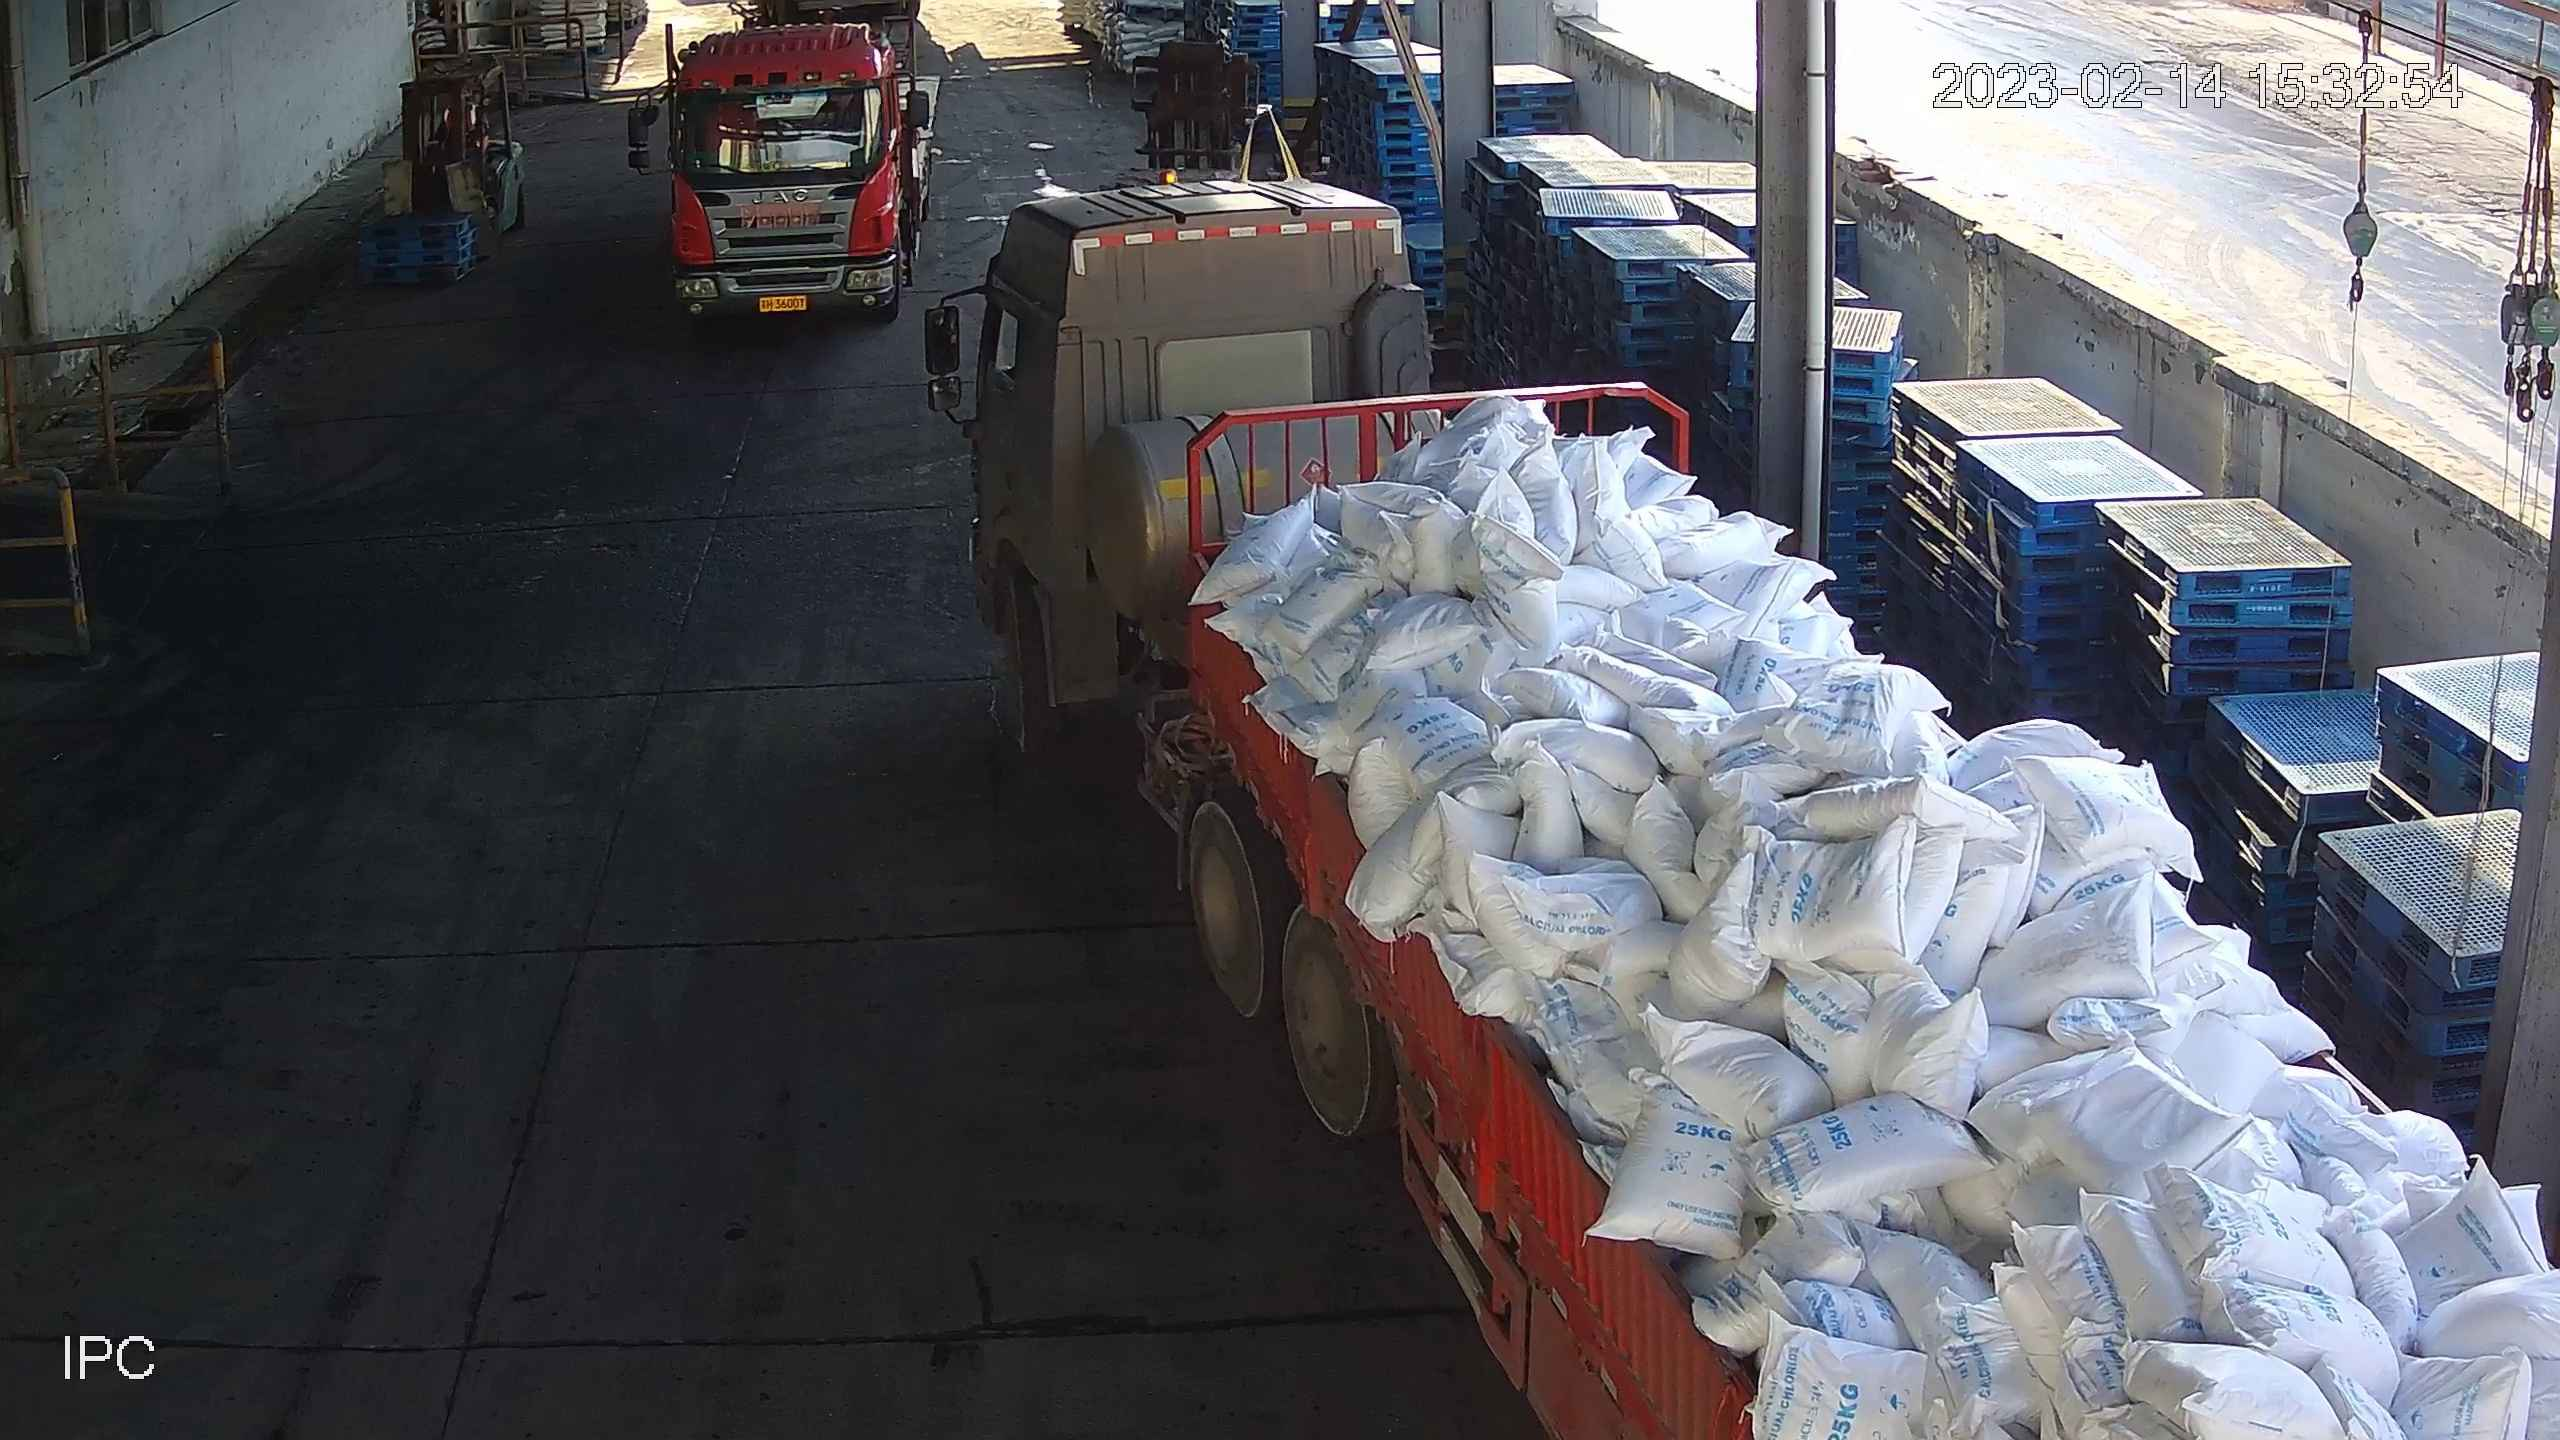truck: (914, 186, 2560, 1440), (638, 2, 942, 325)
